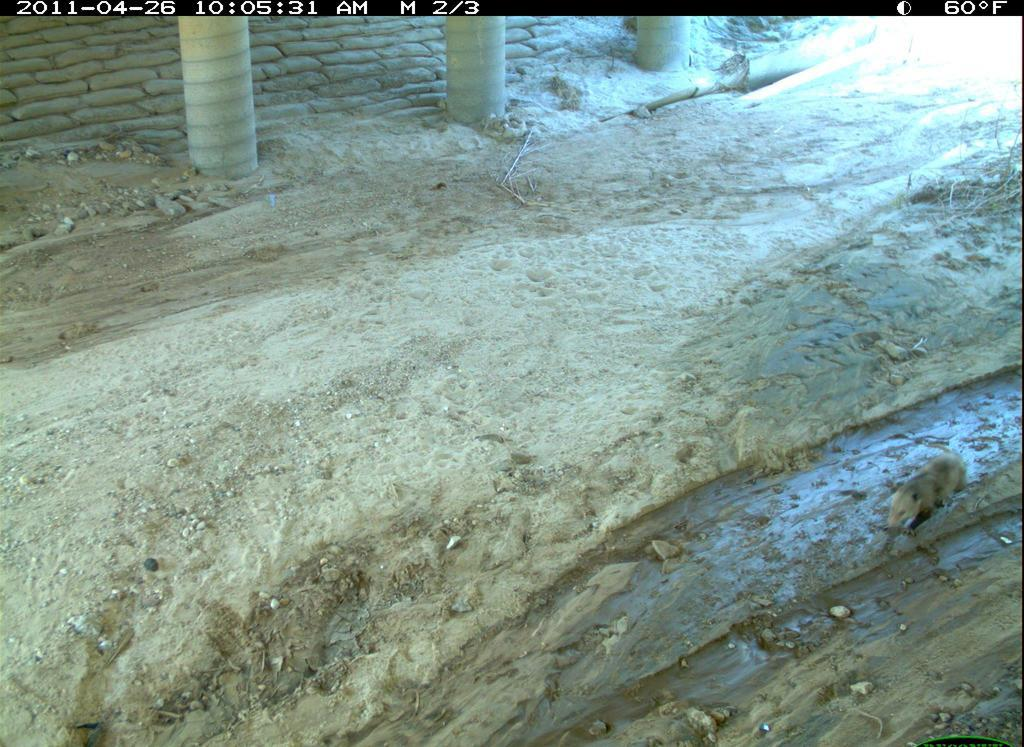opossum: (854, 443, 991, 569)
